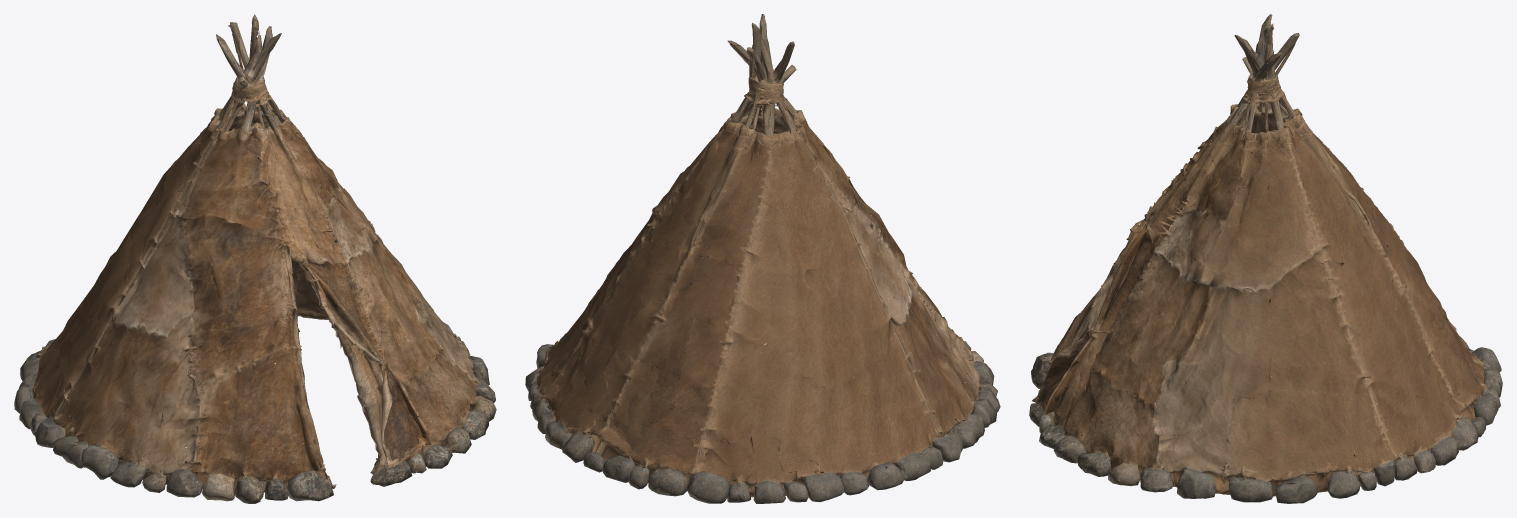
File: hide-tent.glb
The picture shows the model from 3 angles, left to right: view 1: azimuth 30°, elevation 25°; view 2: azimuth 150°, elevation 25°; view 3: azimuth 270°, elevation 25°; orthographic projection.
Visible parts, largest first — view 1: Mesh_0; view 2: Mesh_0; view 3: Mesh_0.
Boxes of the visible parts, bbox=[...] form: Mesh_0: bbox=[14, 14, 496, 503]; Mesh_0: bbox=[525, 14, 1000, 503]; Mesh_0: bbox=[1029, 14, 1502, 503].
Size of the model in its own units: 2.94 by 2.6 by 2.9.
Materials: 1 (1 with a texture image).
